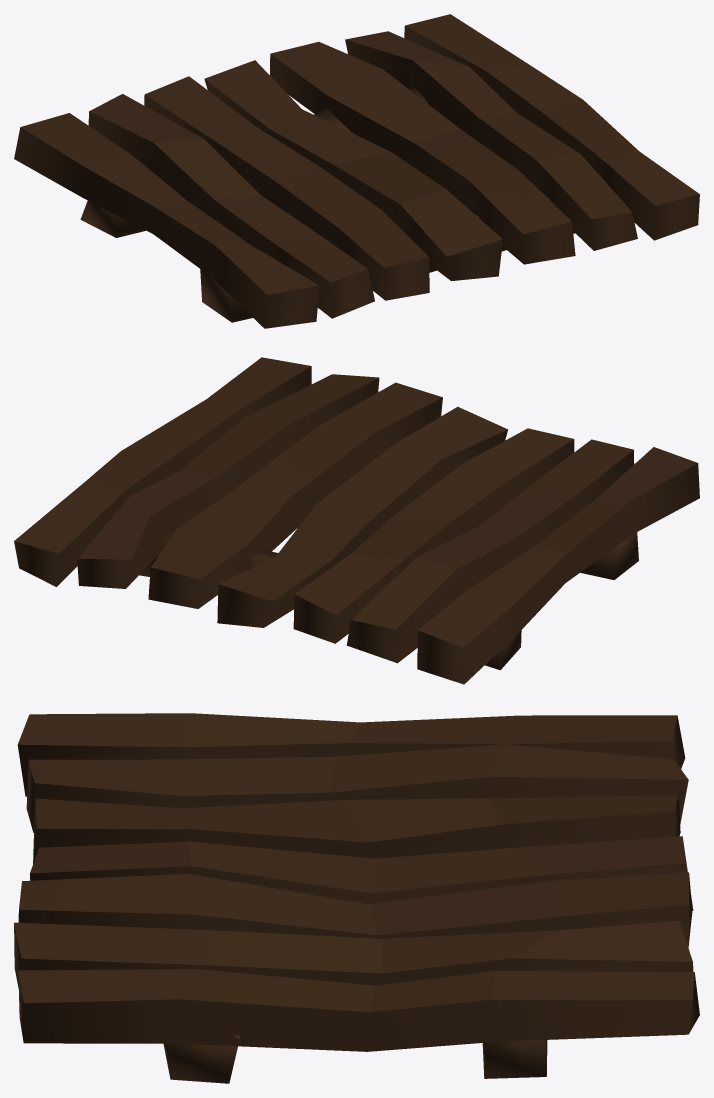
File: mesh_platform.fbx
The picture shows the model from 3 angles, top to bottom: view 1: azimuth 30°, elevation 25°; view 2: azimuth 150°, elevation 25°; view 3: azimuth 270°, elevation 25°; orthographic projection. The views are drawn at different scales.
Visible parts, largest first — view 1: Mesh; view 2: Mesh; view 3: Mesh.
Boxes of the visible parts, <box> form: Mesh: <box>14,14,699,328</box>; Mesh: <box>14,357,699,684</box>; Mesh: <box>14,713,699,1083</box>.
Bounding box in the file's own units: 212 × 35.29 × 205.
